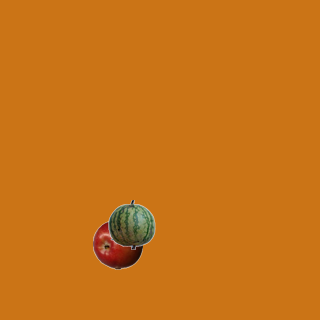Apple Braeburn: (92, 219, 142, 269)
Watermelon: (106, 199, 156, 249)
